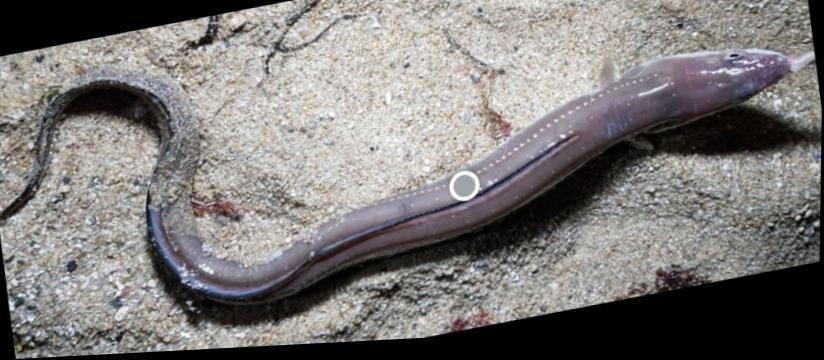fish: (0, 57, 796, 305)
